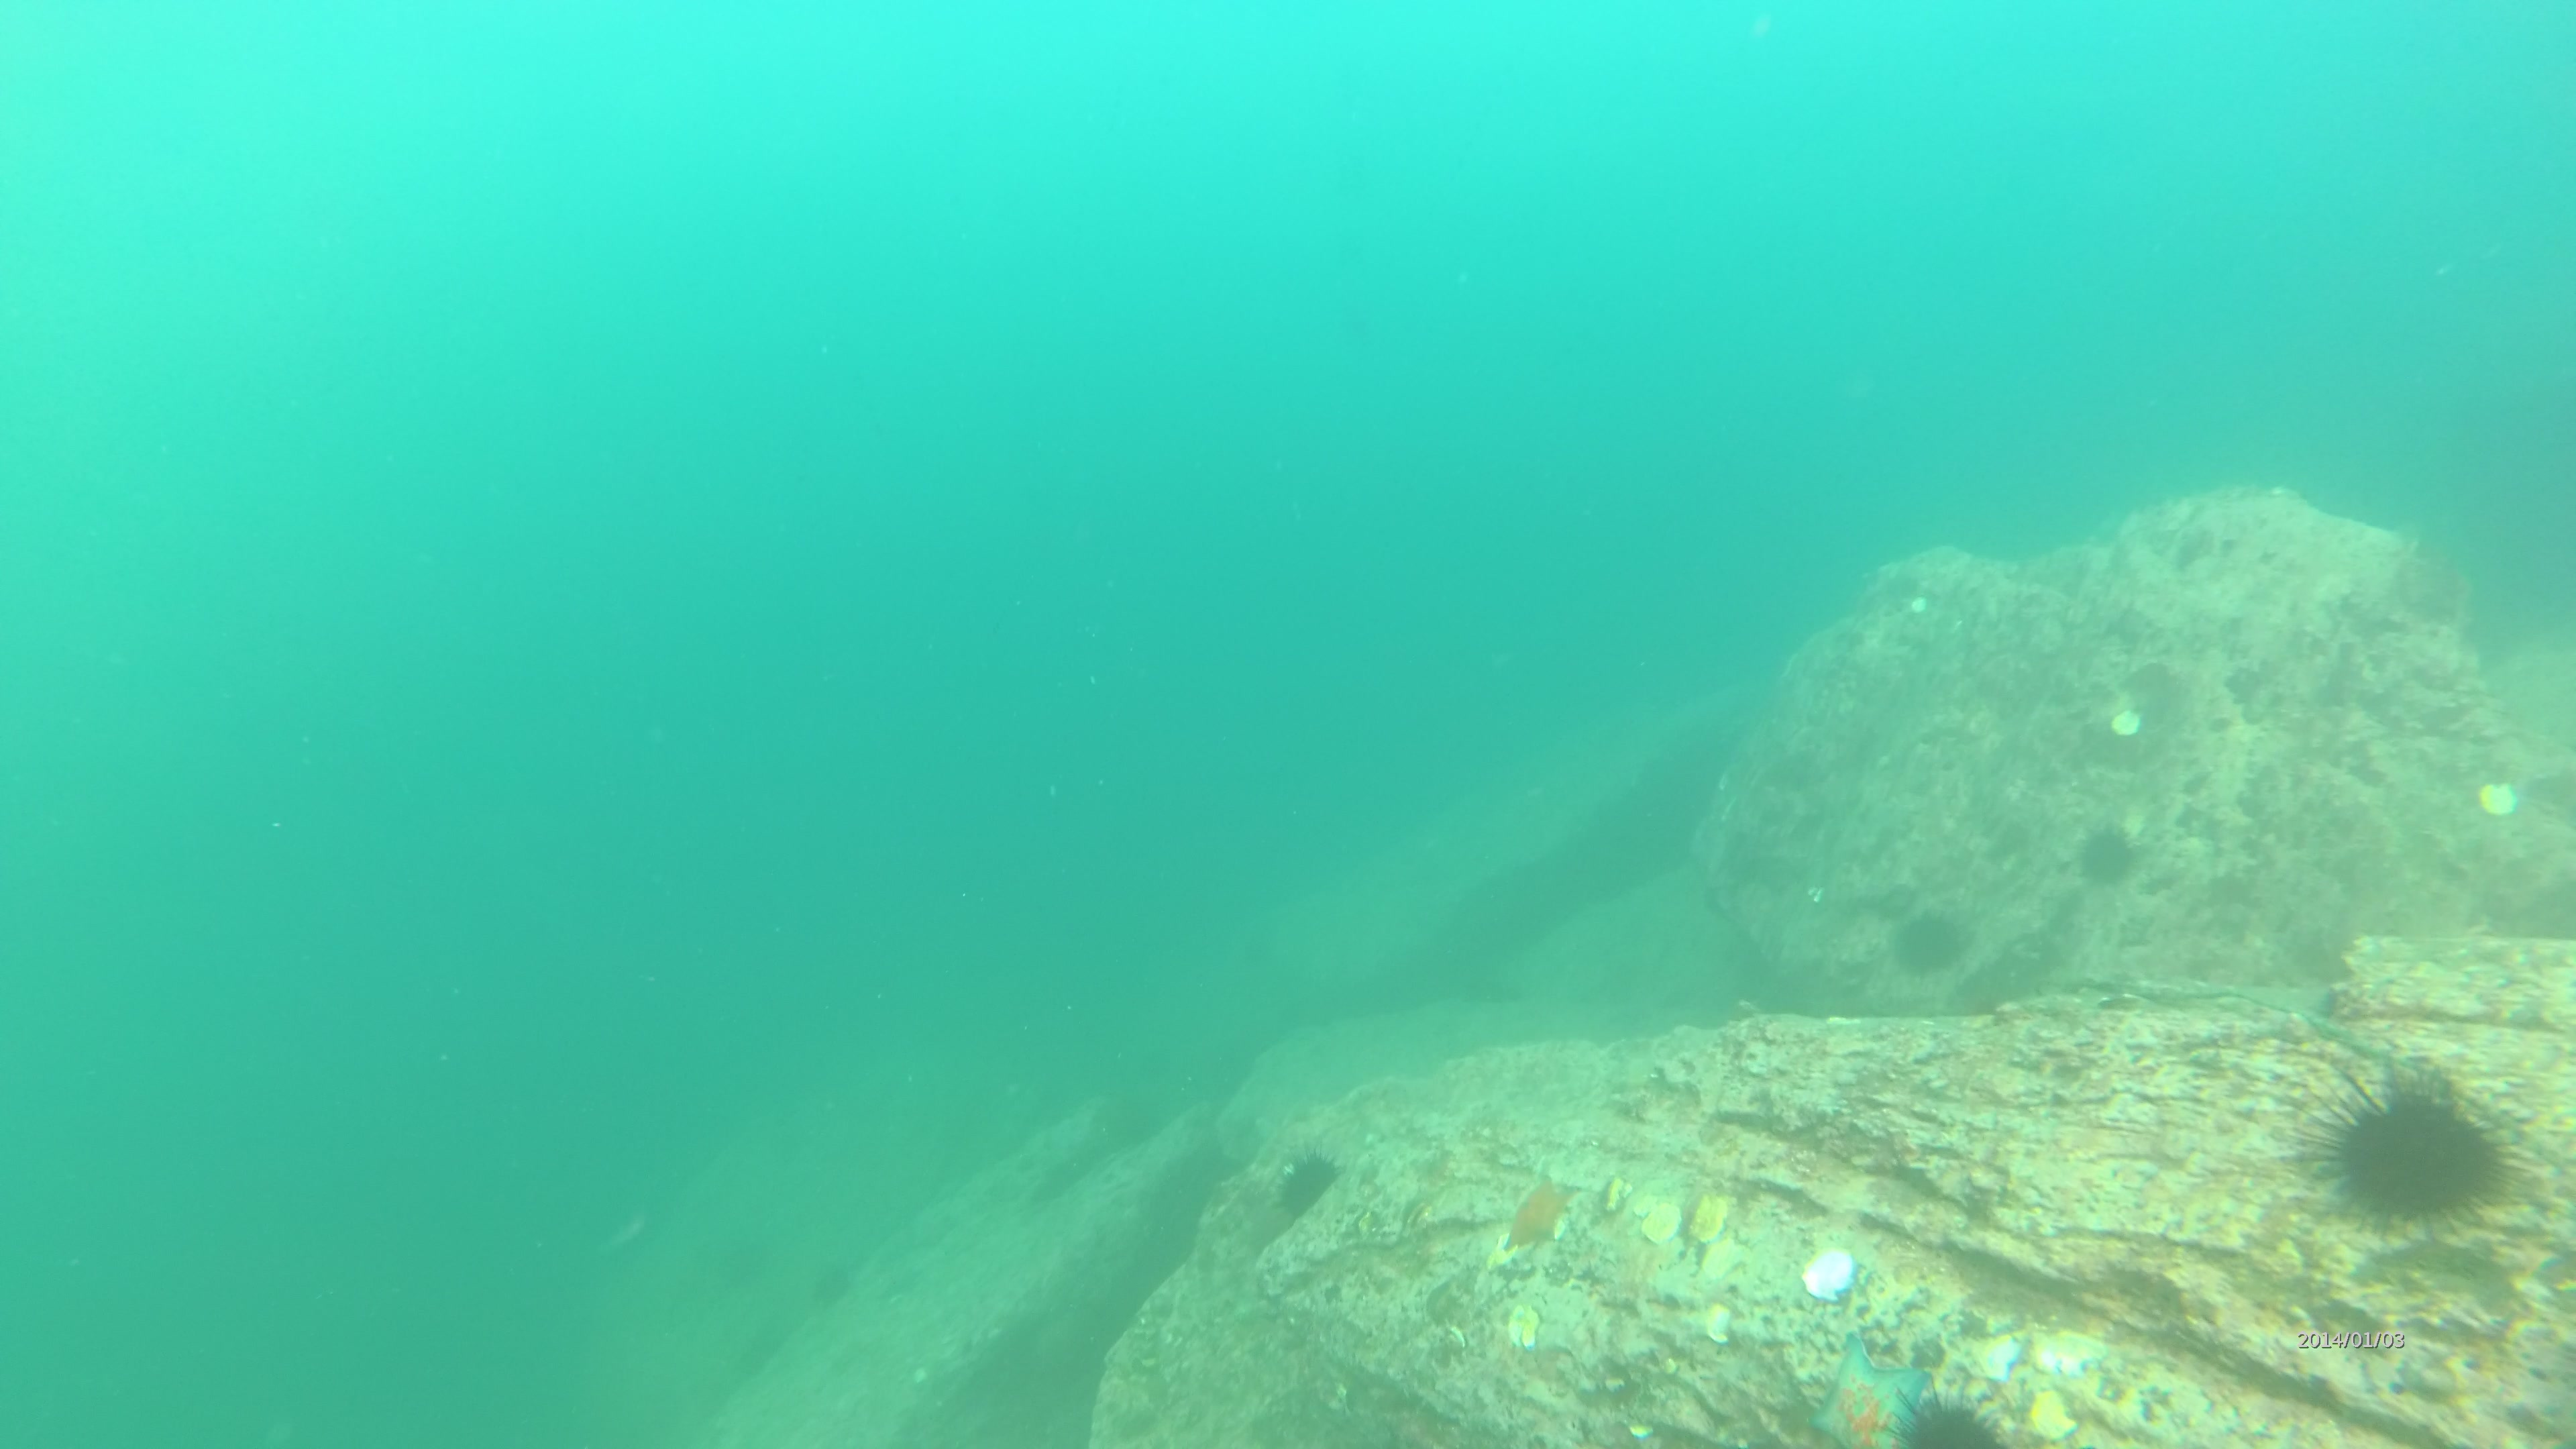echinus: (2300, 1060, 2514, 1246), (1890, 904, 1982, 980), (1269, 1150, 1336, 1221), (2075, 819, 2139, 885)
starfish: (1801, 1327, 1921, 1449)
